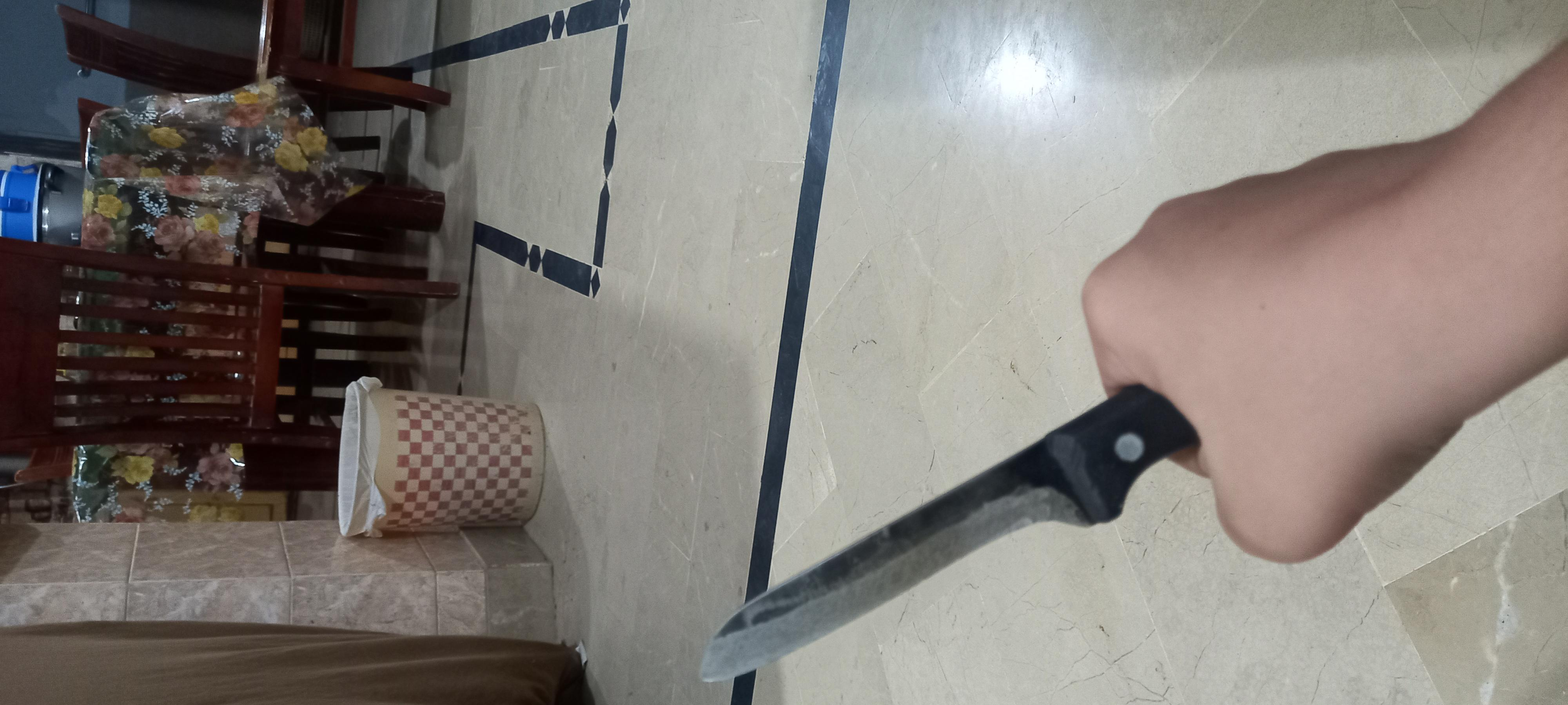knives: (23, 312, 731, 535)
